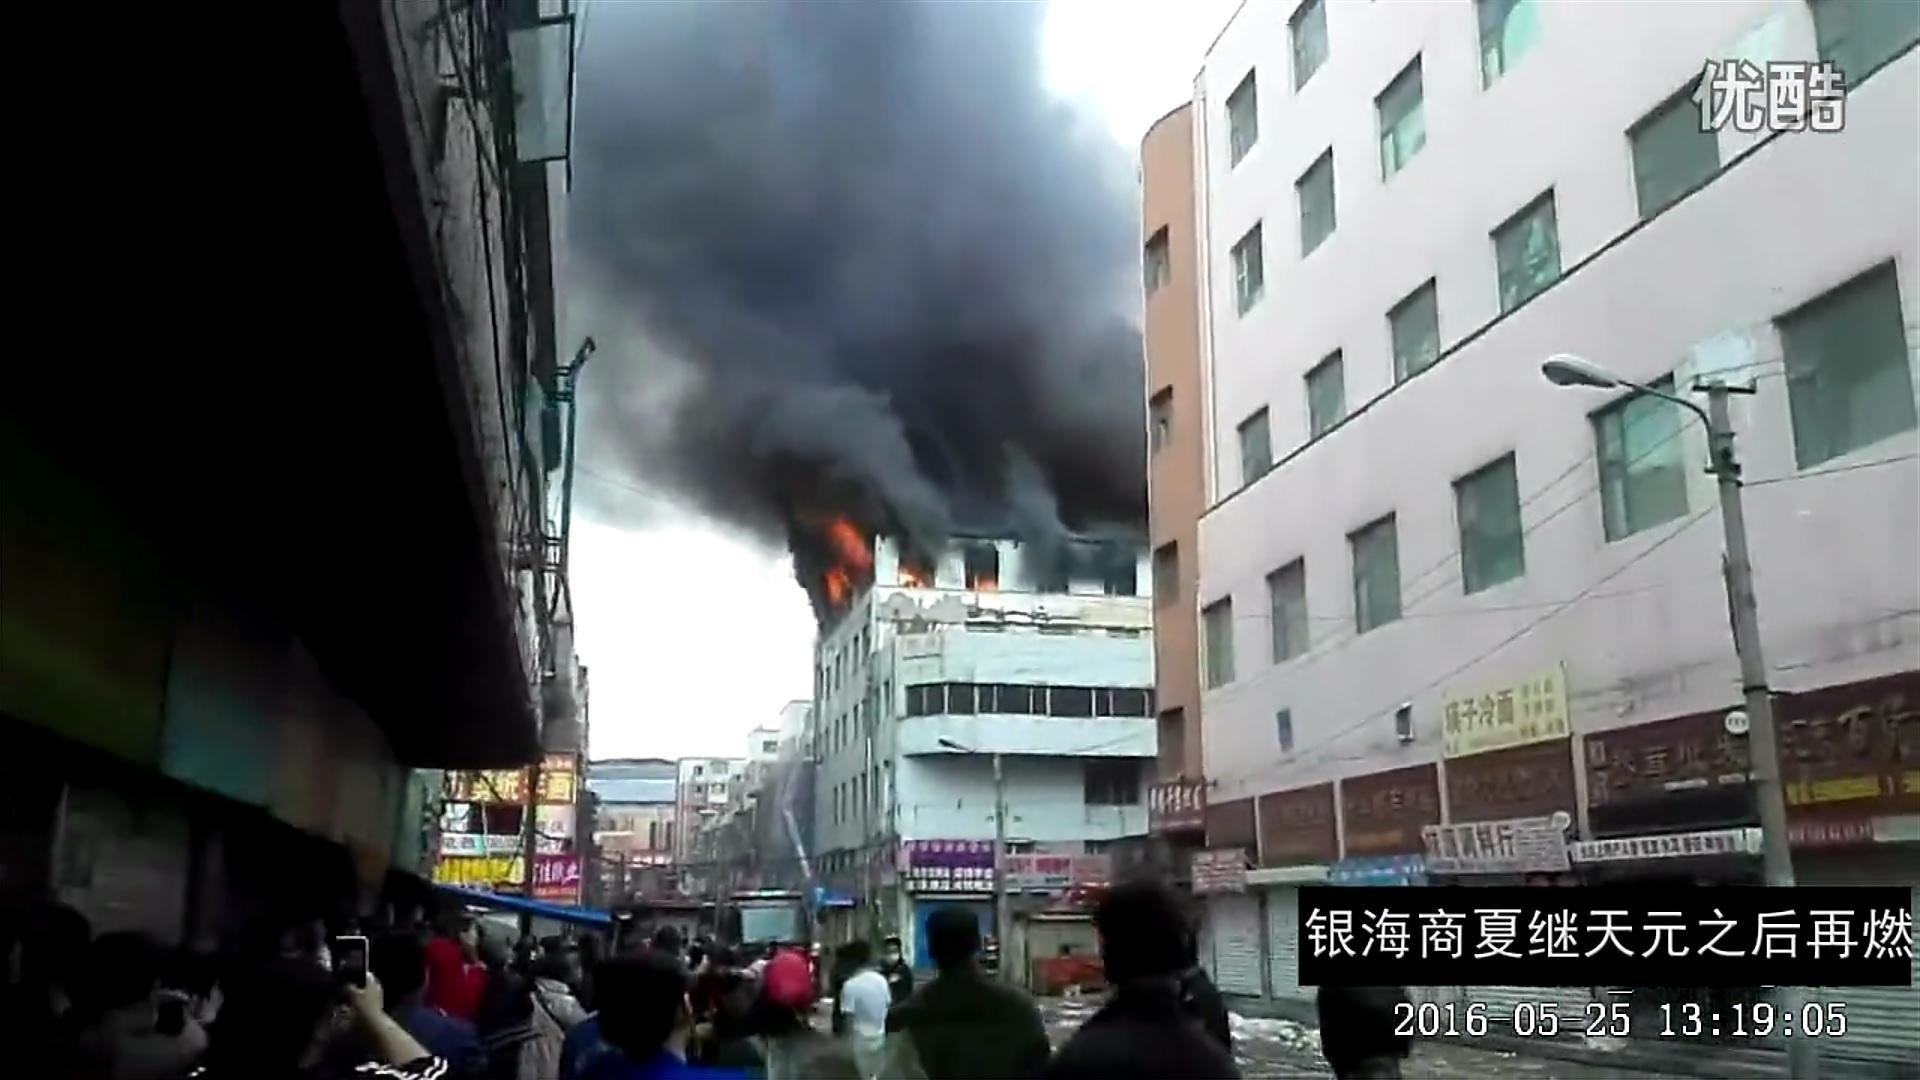fire: (819, 516, 872, 603)
